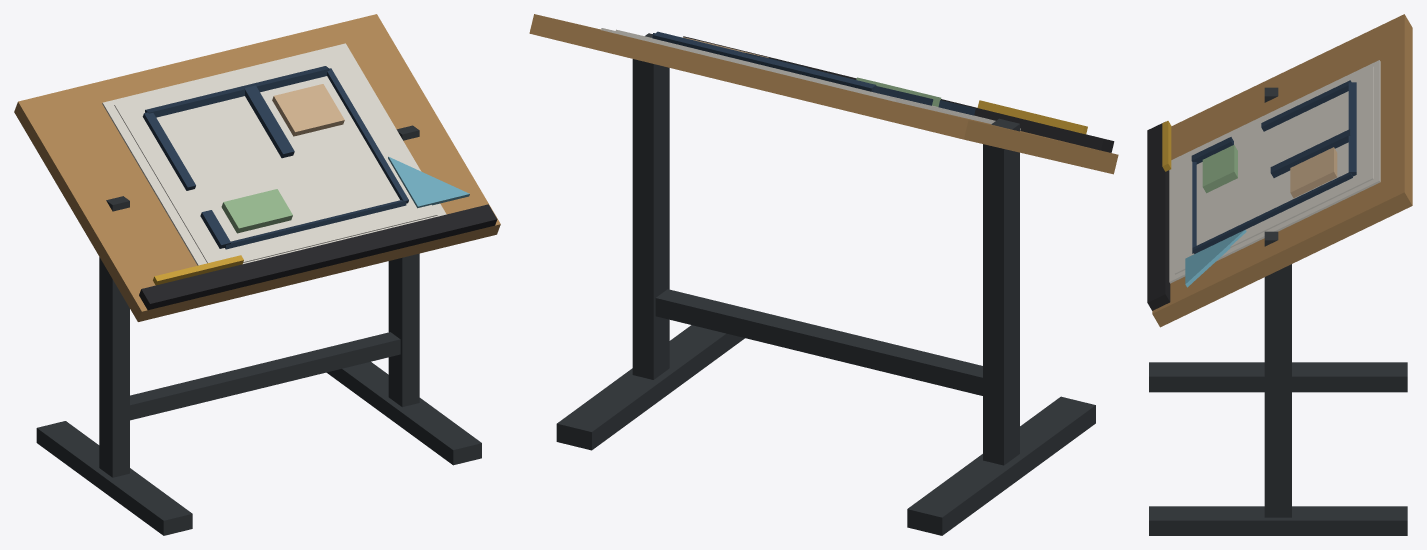
File: c-drafting-table.glb
3 views of the same model, side by side, from view 1: azimuth 30°, elevation 25°; view 2: azimuth 150°, elevation 25°; view 3: azimuth 270°, elevation 25° (orthographic). The views are drawn at different scales.
Parts seen in each view (by area): view 1: c-drafting-table; view 2: c-drafting-table; view 3: c-drafting-table.
Boxes of the visible parts, x1,y1,x2,y2 form: c-drafting-table: (14, 14, 500, 535); c-drafting-table: (529, 14, 1118, 535); c-drafting-table: (1147, 14, 1412, 535).
Size of the model in its own units: 0.682 by 0.631 by 0.4286.
